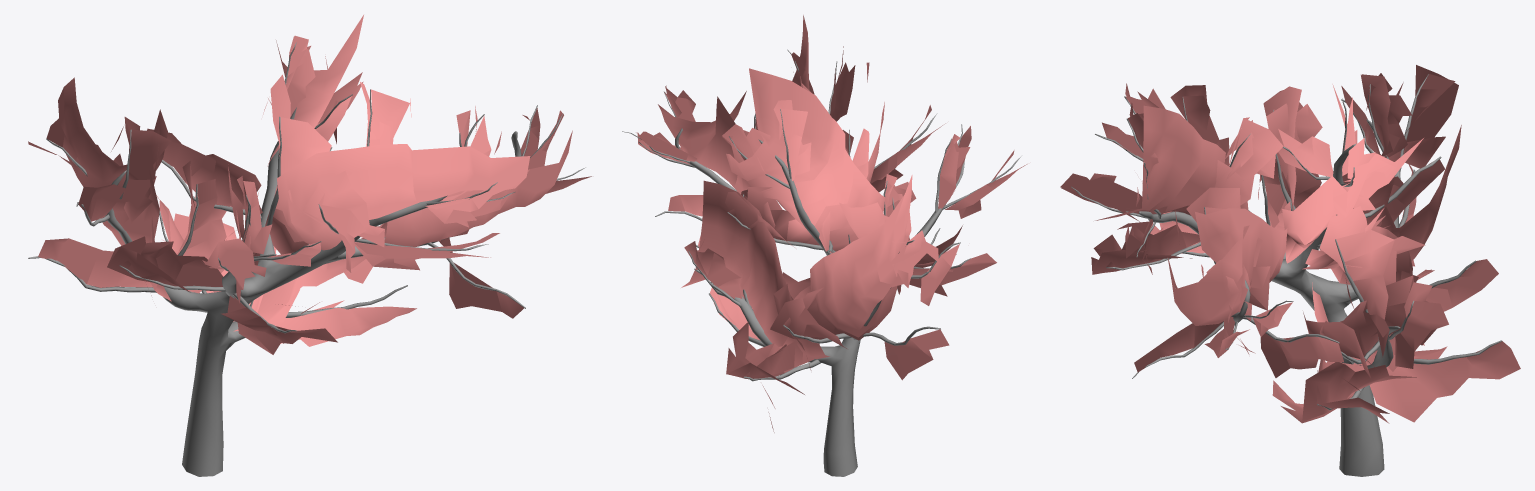
Rendered from CHN_PeachBlossom_Final_LOD.gltf.
3 renders of one model, left to right at view 1: azimuth 30°, elevation 25°; view 2: azimuth 150°, elevation 25°; view 3: azimuth 270°, elevation 25°, orthographic. The views are drawn at different scales.
Visible parts, largest first — view 1: CHN_PeachBlossom_Final_LOD; view 2: CHN_PeachBlossom_Final_LOD; view 3: CHN_PeachBlossom_Final_LOD.
Part boxes in pixels (<box>): CHN_PeachBlossom_Final_LOD: <box>28,15,591,476</box>; CHN_PeachBlossom_Final_LOD: <box>622,15,1027,476</box>; CHN_PeachBlossom_Final_LOD: <box>1060,65,1520,476</box>.
Size of the model in its own units: 3.71 by 3.24 by 3.08.
